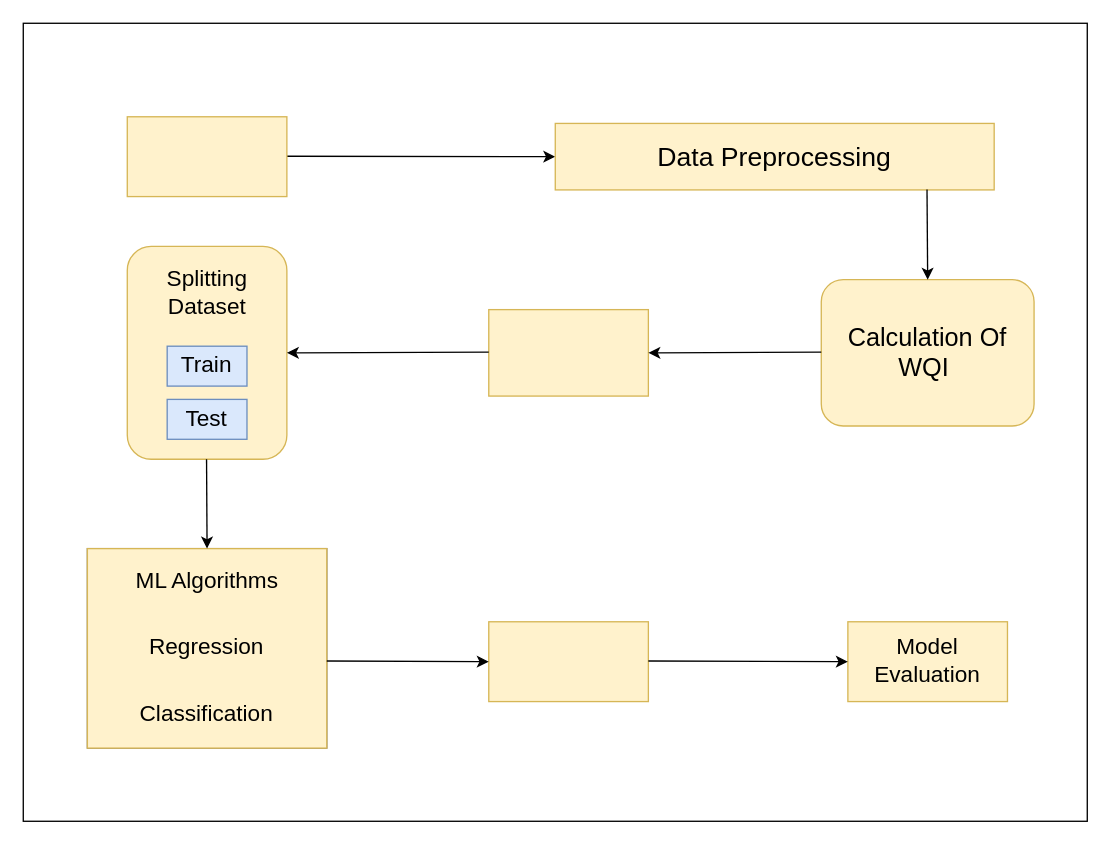
Some shapes in this 1111 by 845 pixel diagram are drawn without their labels. Each missing label, with the box of its shape:
Data Collection: (126, 115, 287, 197)
Feature Engineering: (487, 308, 648, 396)
Model Training: (487, 620, 648, 702)
